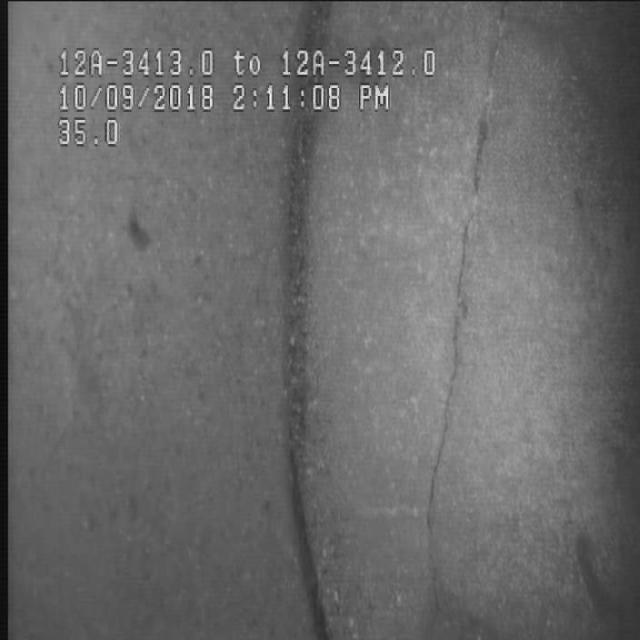Crack: (419, 86, 492, 638)
